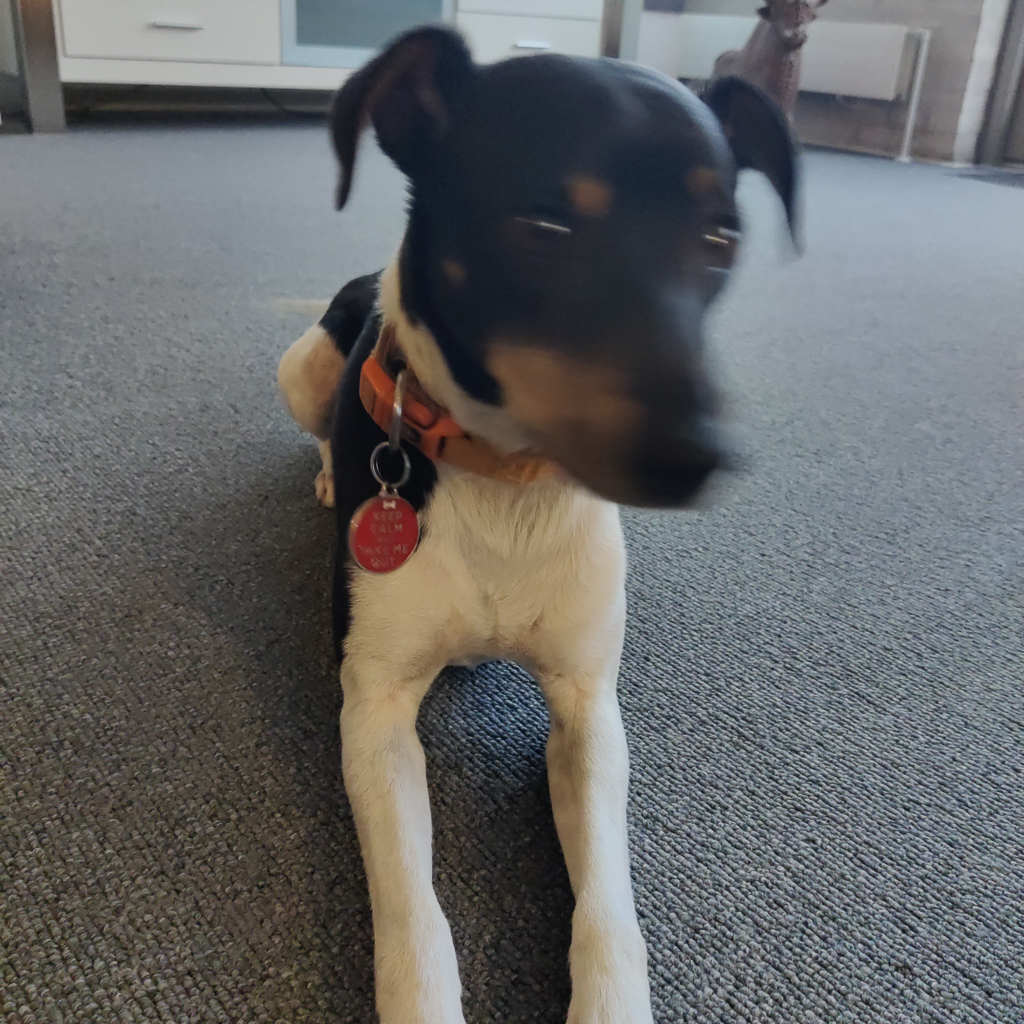Cattle: (687, 0, 838, 161)
Dog: (249, 18, 842, 1024)
